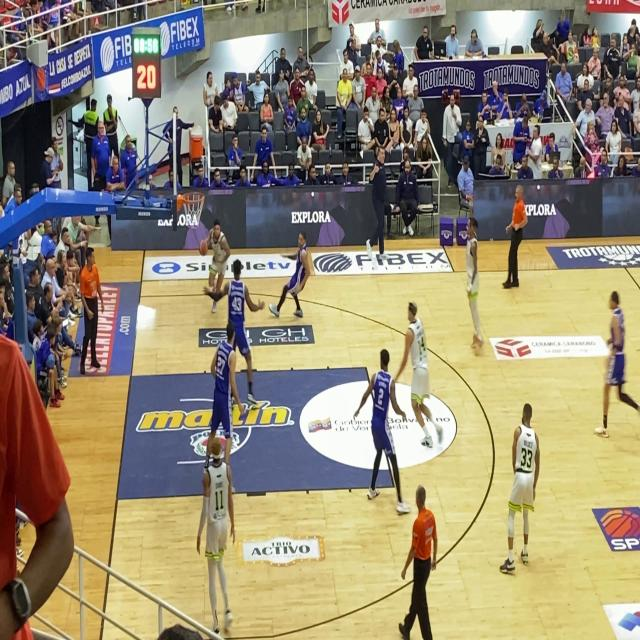Ball: (198, 234, 209, 257)
referee: (397, 480, 439, 640), (73, 238, 109, 386), (497, 174, 528, 294)
team1: (187, 419, 244, 633), (490, 382, 542, 582), (398, 291, 444, 459), (458, 210, 492, 360), (198, 215, 230, 312)
team2: (354, 333, 412, 520), (581, 278, 638, 434), (191, 313, 245, 439), (266, 210, 315, 334), (208, 248, 264, 323)
ubasket: (185, 188, 204, 228)
